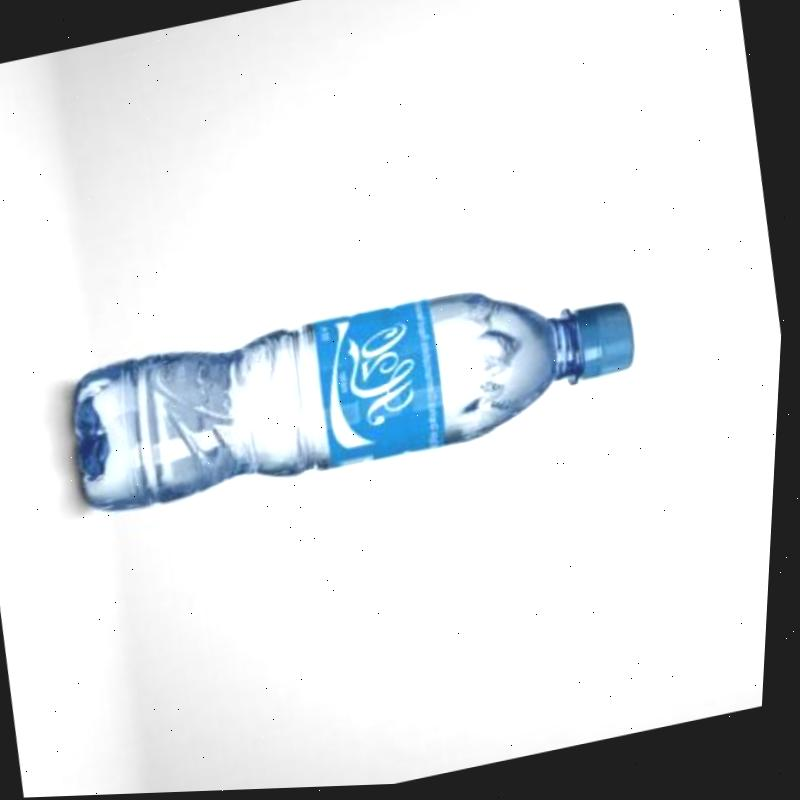botella: (52, 253, 656, 527)
